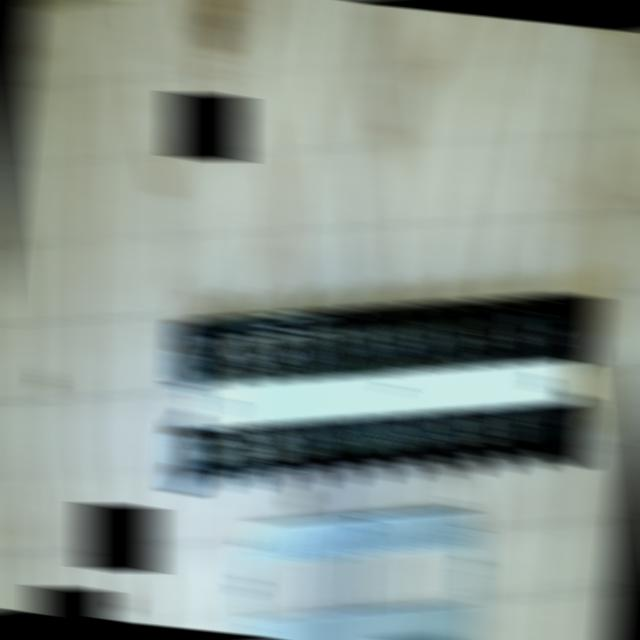Phillips_Block: (155, 295, 614, 494)
